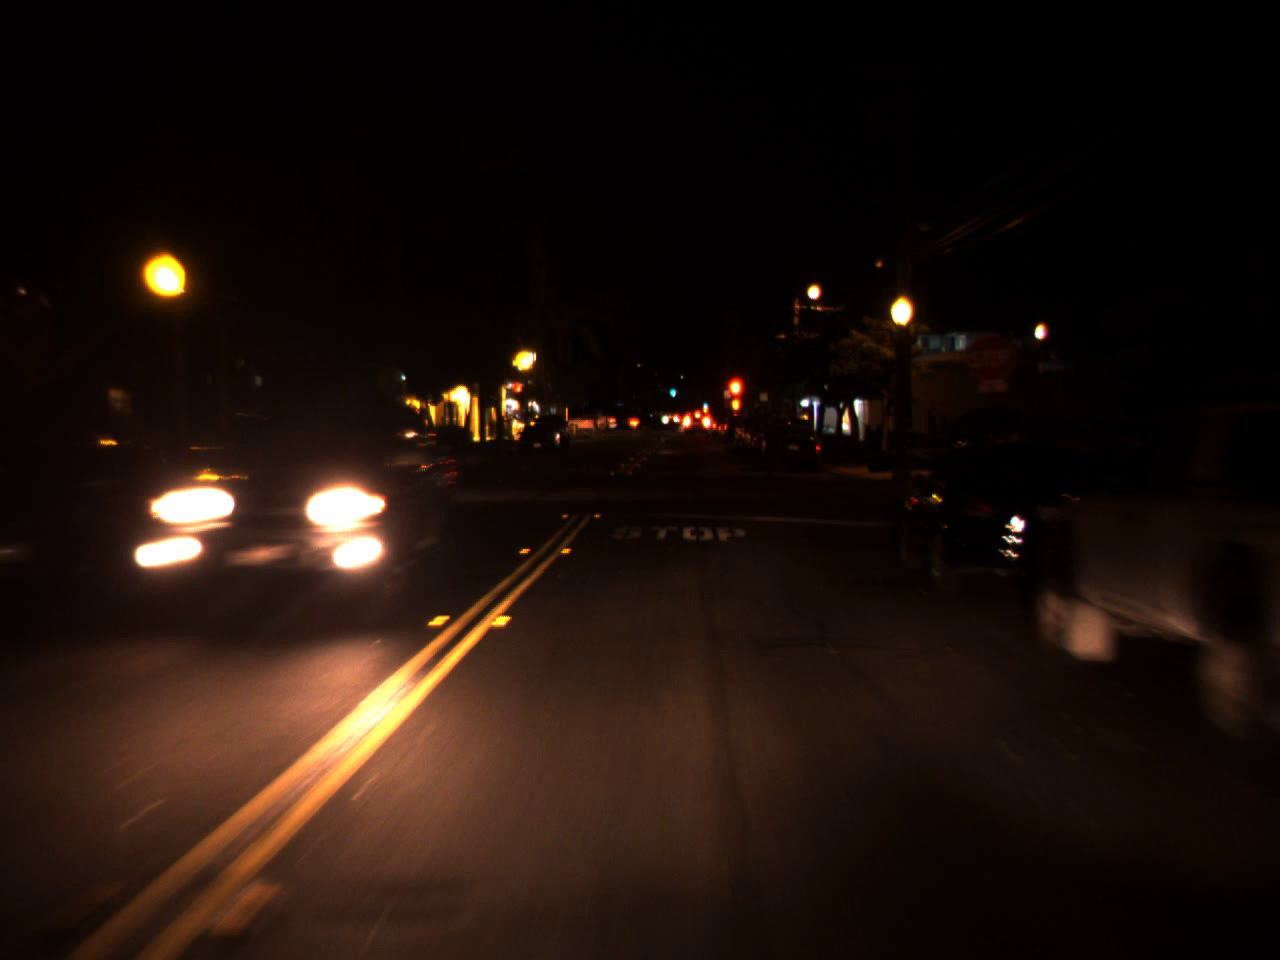go: (668, 382, 677, 397), (701, 396, 708, 408)
stop: (727, 376, 745, 411), (509, 380, 524, 404)
